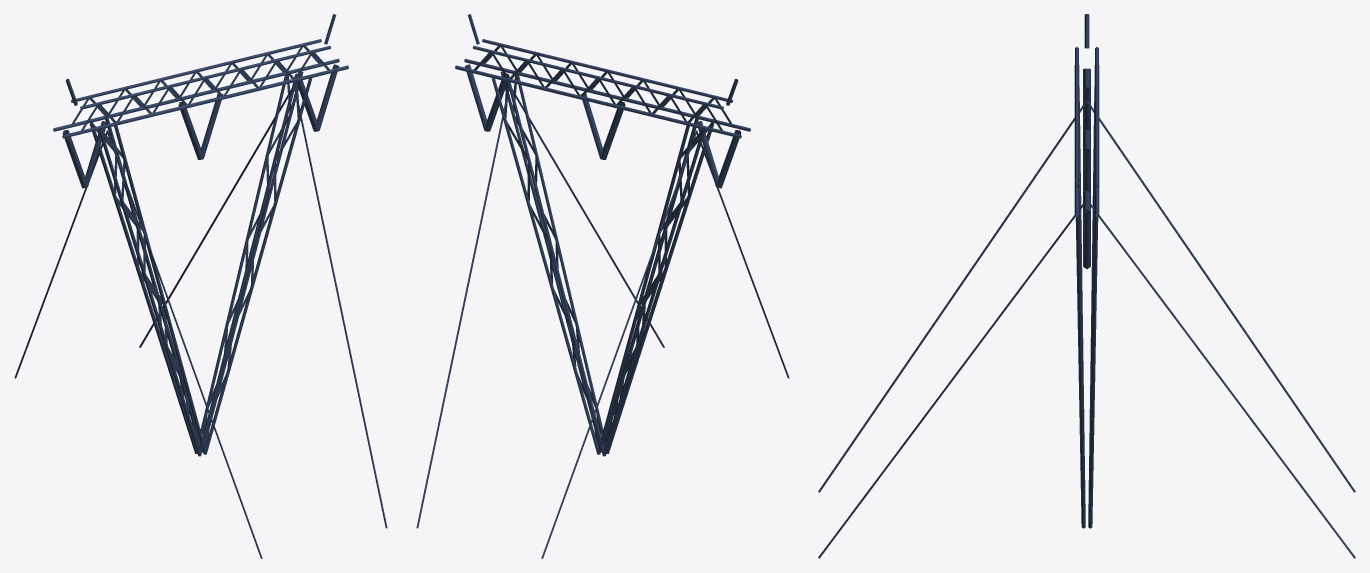
The model's file is torre-ehv.glb.
3 renders of one model, left to right at view 1: azimuth 30°, elevation 25°; view 2: azimuth 150°, elevation 25°; view 3: azimuth 270°, elevation 25°, orthographic. The views are drawn at different scales.
Parts seen in each view (by area): view 1: torre-ehv; view 2: torre-ehv; view 3: torre-ehv.
Part boxes in pixels (left/top/right/bottom): torre-ehv: left=14, top=14, right=387, bottom=558; torre-ehv: left=416, top=14, right=789, bottom=558; torre-ehv: left=818, top=14, right=1355, bottom=558.
Bounding box in the file's own units: 32 × 43.7 × 48.18.
